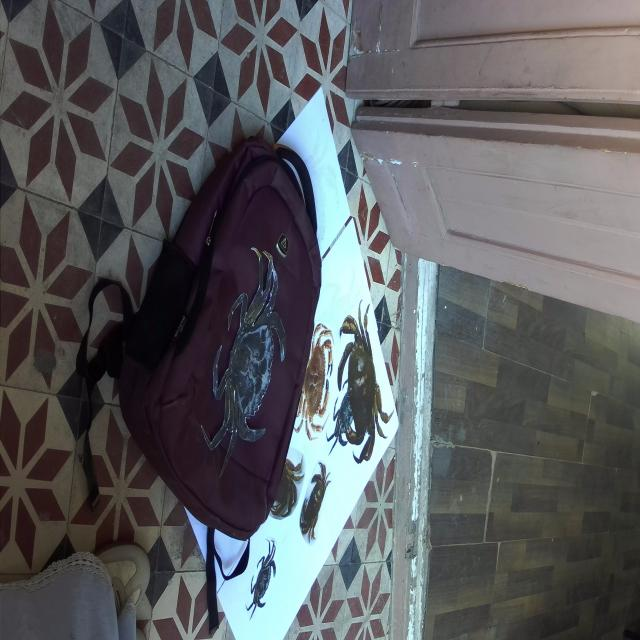European_Green_Crab: (195, 236, 306, 484), (241, 537, 282, 622), (322, 392, 359, 459)
